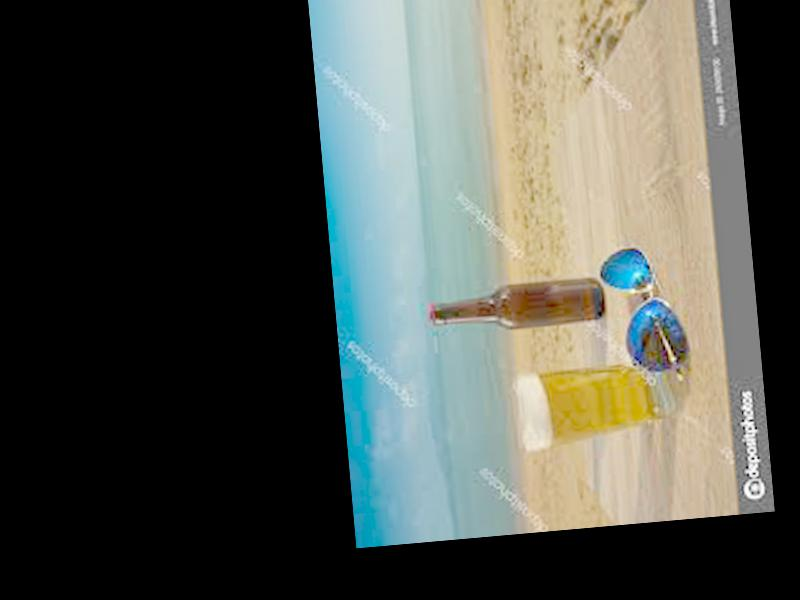Beer: (426, 276, 604, 336)
